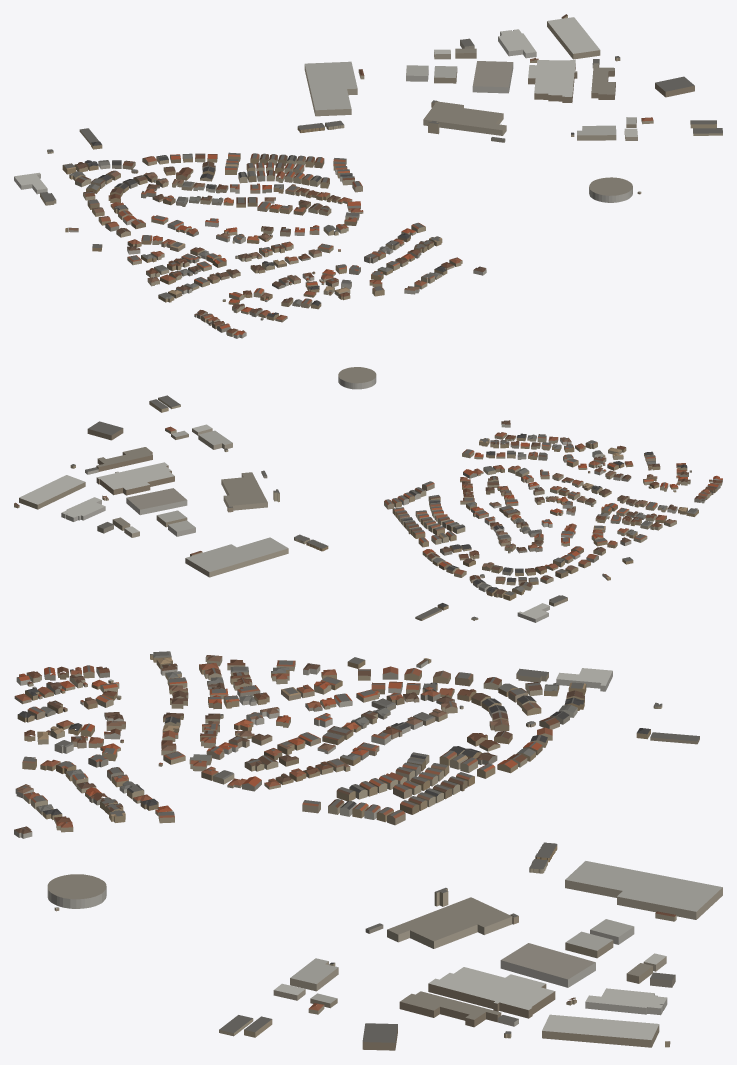
3 views of the same model, one above another, from view 1: azimuth 30°, elevation 25°; view 2: azimuth 150°, elevation 25°; view 3: azimuth 270°, elevation 25° (orthographic). The views are drawn at different scales.
Visible parts, largest first — view 1: buildings_r4_c5_lod1; view 2: buildings_r4_c5_lod1; view 3: buildings_r4_c5_lod1.
Part boxes in pixels (x1,y1,x2,y2): buildings_r4_c5_lod1: [14, 14, 722, 338]; buildings_r4_c5_lod1: [14, 367, 722, 622]; buildings_r4_c5_lod1: [14, 651, 722, 1050].
Size of the model in its own units: 1146 by 73.07 by 850.
